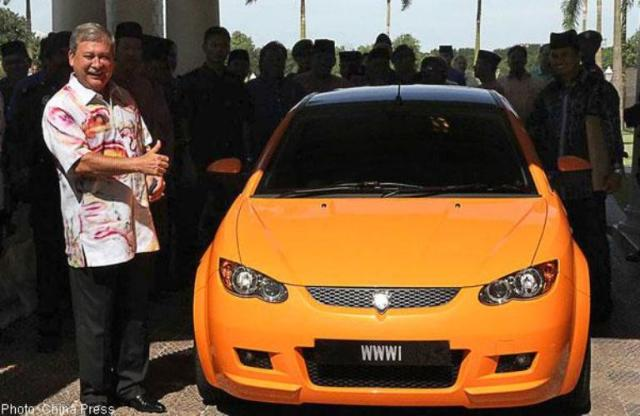License_Plate: (318, 342, 451, 369)
car: (193, 84, 593, 416)
